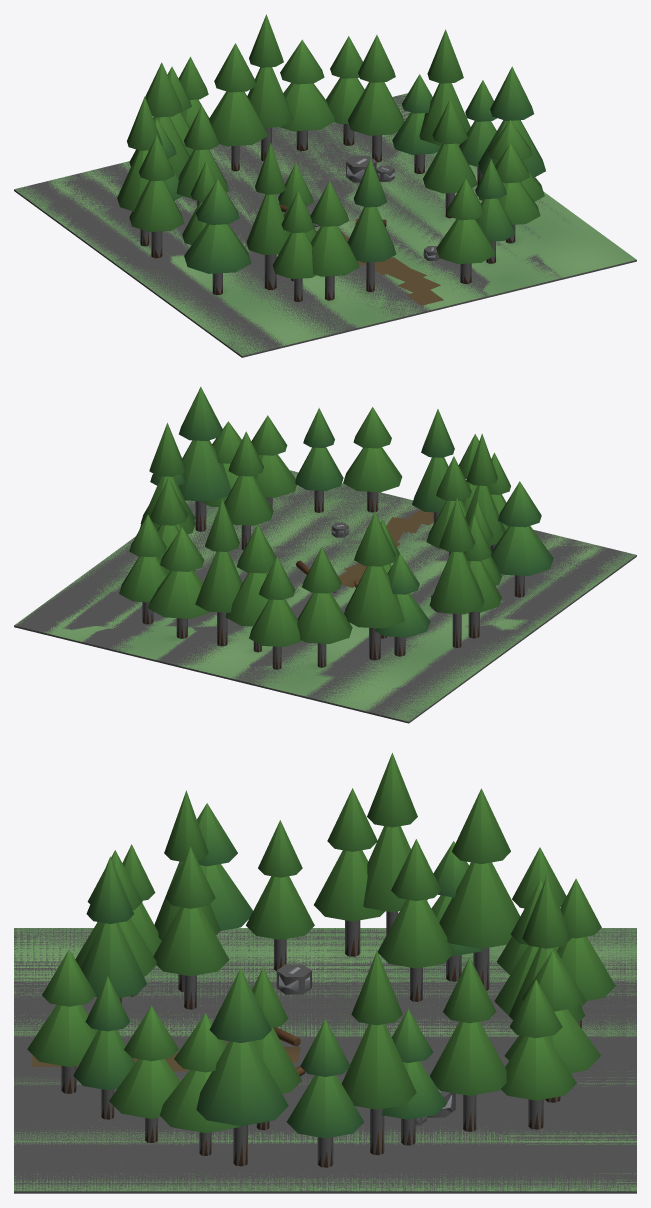
The model's file is forest.glb.
The picture shows the model from 3 angles, top to bottom: view 1: azimuth 30°, elevation 25°; view 2: azimuth 150°, elevation 25°; view 3: azimuth 270°, elevation 25°; orthographic projection. The views are drawn at different scales.
Visible parts, largest first — view 1: ground, COL_floor, tree_10_canopy, tree_18_canopy, tree_22_canopy, tree_12_canopy, tree_5_canopy, tree_7_canopy, tree_20_canopy, tree_6_canopy, tree_26_canopy, tree_19_canopy (+39 smaller); view 2: COL_floor, ground, tree_15_canopy, tree_1_canopy, tree_10_canopy, tree_13_canopy, tree_16_canopy, tree_20_canopy, tree_5_canopy, tree_19_canopy, tree_17_canopy, tree_26_canopy (+34 smaller); view 3: COL_floor, ground, tree_1_canopy, tree_15_canopy, tree_24_canopy, tree_22_canopy, tree_25_canopy, tree_27_canopy, tree_21_canopy, tree_0_canopy, tree_6_canopy, tree_12_canopy (+46 smaller).
Boxes of the visible parts, box(x1,y1,x2,y2) form: ground: box(14, 93, 636, 355); COL_floor: box(14, 93, 636, 357); tree_10_canopy: box(184, 223, 251, 273); tree_18_canopy: box(209, 91, 267, 146); tree_22_canopy: box(347, 82, 404, 135); tree_12_canopy: box(129, 180, 184, 231); tree_5_canopy: box(436, 219, 495, 263); tree_7_canopy: box(311, 226, 359, 276); tree_20_canopy: box(281, 83, 334, 131); tree_6_canopy: box(348, 207, 396, 262); tree_26_canopy: box(423, 143, 477, 193); tree_19_canopy: box(247, 67, 293, 127); COL_floor: box(14, 470, 636, 723); ground: box(14, 470, 636, 721); tree_15_canopy: box(344, 566, 404, 628); tree_1_canopy: box(178, 440, 231, 501); tree_10_canopy: box(491, 526, 553, 575); tree_13_canopy: box(429, 551, 484, 614); tree_16_canopy: box(297, 592, 352, 643); tree_20_canopy: box(148, 570, 211, 618); tree_5_canopy: box(343, 447, 402, 492); tree_19_canopy: box(195, 551, 242, 612); tree_17_canopy: box(249, 599, 302, 646); tree_26_canopy: box(224, 475, 273, 525); COL_floor: box(14, 928, 636, 1193); ground: box(14, 928, 636, 1191); tree_1_canopy: box(196, 1041, 288, 1126); tree_15_canopy: box(439, 862, 520, 948); tree_24_canopy: box(341, 1024, 416, 1109); tree_22_canopy: box(430, 1021, 506, 1095); tree_25_canopy: box(377, 899, 454, 968); tree_27_canopy: box(153, 907, 229, 976); tree_21_canopy: box(501, 1036, 576, 1100); tree_0_canopy: box(287, 1075, 363, 1138); tree_6_canopy: box(80, 922, 146, 997); tree_12_canopy: box(314, 850, 384, 921).
Bounding box in the file's own units: 24 × 8.77 × 24.
